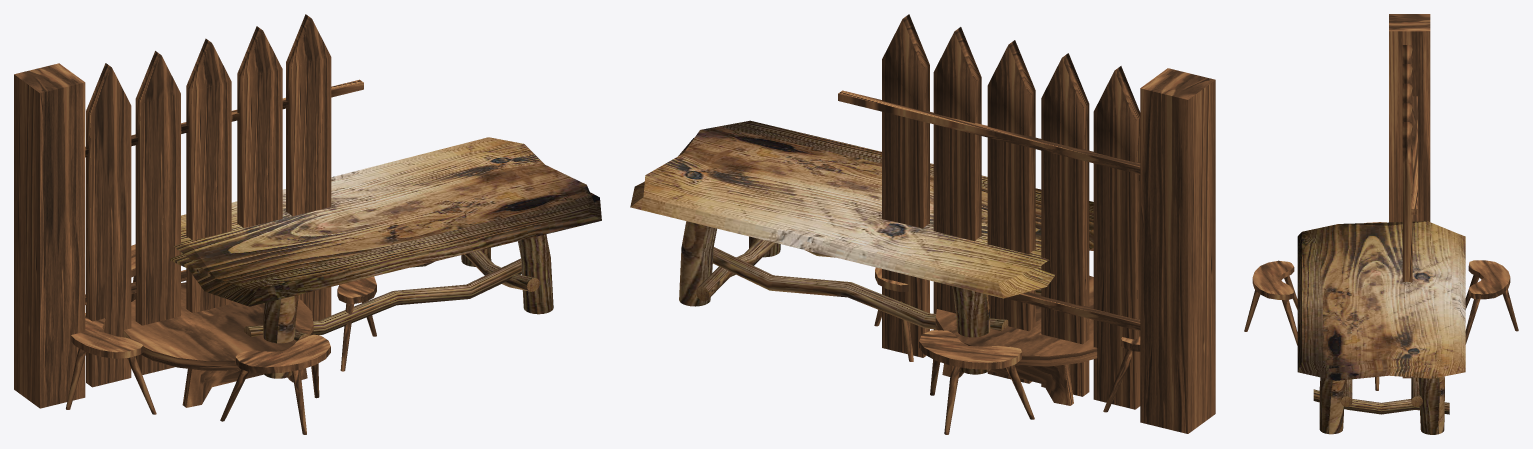
The model's file is Table - type 2.fbx.
3 views of the same model, side by side, from view 1: azimuth 30°, elevation 25°; view 2: azimuth 150°, elevation 25°; view 3: azimuth 270°, elevation 25° (orthographic). The views are drawn at different scales.
Parts seen in each view (by area): view 1: pCube18, masa, pCube5, Wooden_Table, Wooden_Chair2, Wooden_Chair3, Wooden_Chair4; view 2: pCube18, masa, pCube5, Wooden_Table, Wooden_Chair, Wooden_Chair4, Wooden_Chair3; view 3: masa, pCube5, pCube18, Wooden_Chair, Wooden_Chair2.
Boxes of the visible parts, <box> form: pCube18: <box>85,14,363,387</box>; masa: <box>170,137,601,378</box>; pCube5: <box>14,63,85,408</box>; Wooden_Table: <box>123,282,313,407</box>; Wooden_Chair2: <box>220,334,330,434</box>; Wooden_Chair3: <box>66,313,156,414</box>; Wooden_Chair4: <box>337,276,376,371</box>; pCube18: <box>838,14,1140,409</box>; masa: <box>630,120,1093,374</box>; pCube5: <box>1140,68,1215,433</box>; Wooden_Table: <box>935,275,1097,405</box>; Wooden_Chair: <box>919,330,1034,434</box>; Wooden_Chair4: <box>874,267,913,361</box>; Wooden_Chair3: <box>1103,336,1140,412</box>; masa: <box>1297,221,1465,434</box>; pCube5: <box>1389,14,1430,222</box>; pCube18: <box>1402,45,1417,378</box>; Wooden_Chair: <box>1465,260,1518,344</box>; Wooden_Chair2: <box>1244,260,1297,345</box>.
Size of the model in its own units: 627 by 361 by 359.
2 materials, 2 textured.
